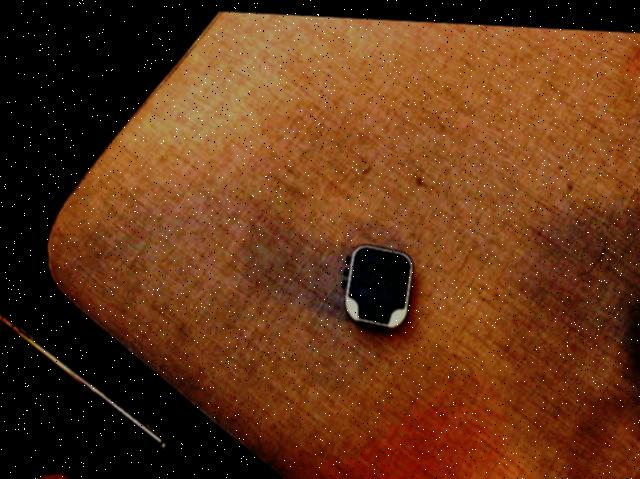adapter: (340, 238, 412, 326)
